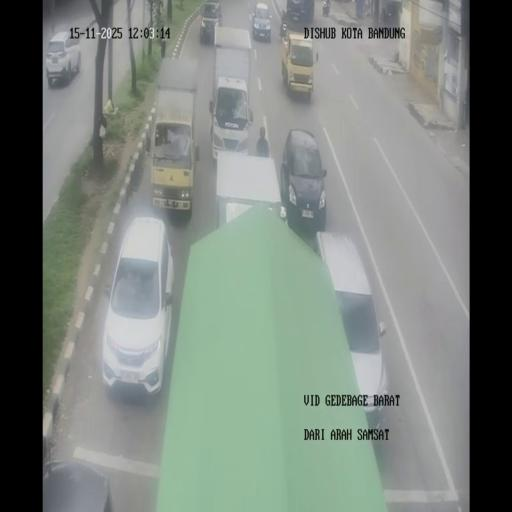3: (150, 56, 200, 216), (210, 24, 254, 160), (214, 150, 282, 229), (280, 28, 315, 100), (284, 0, 314, 30)
car: (315, 234, 387, 427), (103, 216, 175, 398), (280, 129, 326, 234), (45, 31, 80, 87), (199, 1, 223, 45), (252, 2, 272, 41)
truck: (322, 0, 330, 16), (380, 6, 387, 22)
